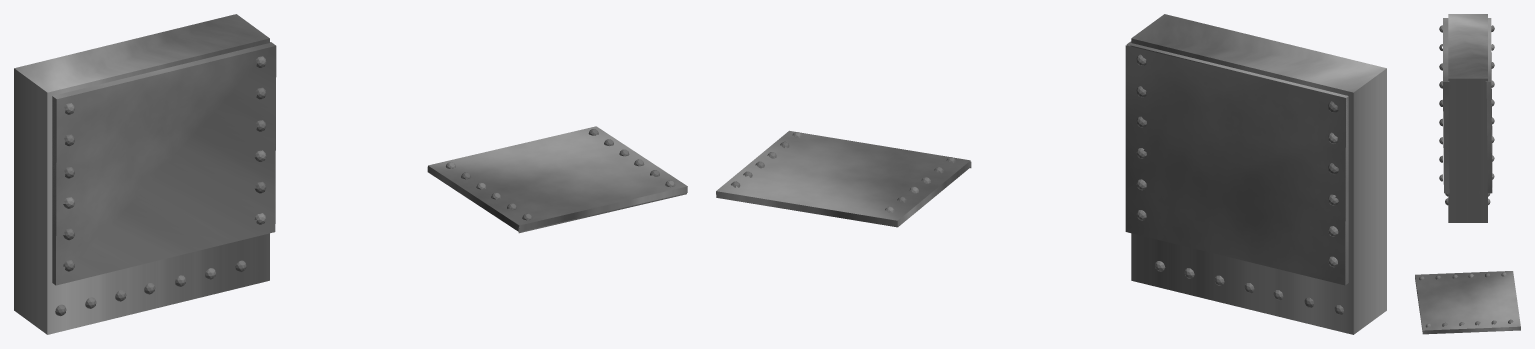
Rendered from metalWallDestroyed.fbx.
3 renders of one model, left to right at view 1: azimuth 30°, elevation 25°; view 2: azimuth 150°, elevation 25°; view 3: azimuth 270°, elevation 25°, orthographic. The views are drawn at different scales.
Visible parts, largest first — view 1: Icosphere.003; view 2: Icosphere.003; view 3: Icosphere.003.
Boxes of the visible parts, bbox=[...] form: Icosphere.003: bbox=[14, 14, 687, 334]; Icosphere.003: bbox=[716, 14, 1386, 334]; Icosphere.003: bbox=[1415, 14, 1520, 334].
Size of the model in its own units: 2054 by 768 by 511.
